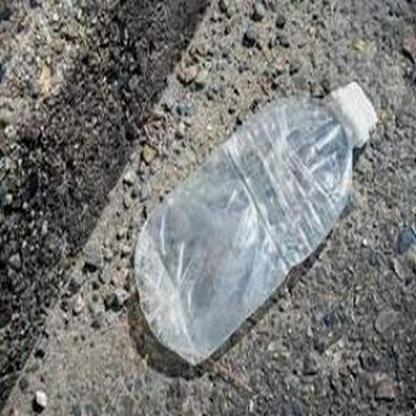plastic bottle: (133, 82, 379, 364)
